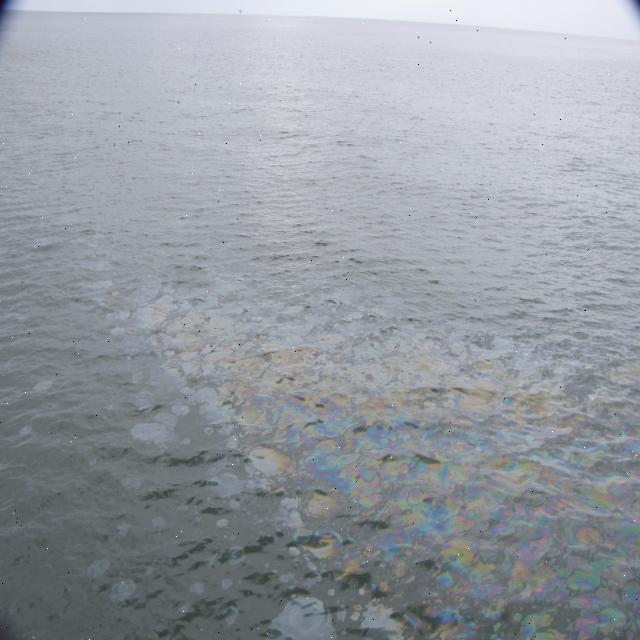rainbow: (275, 387, 640, 640)
